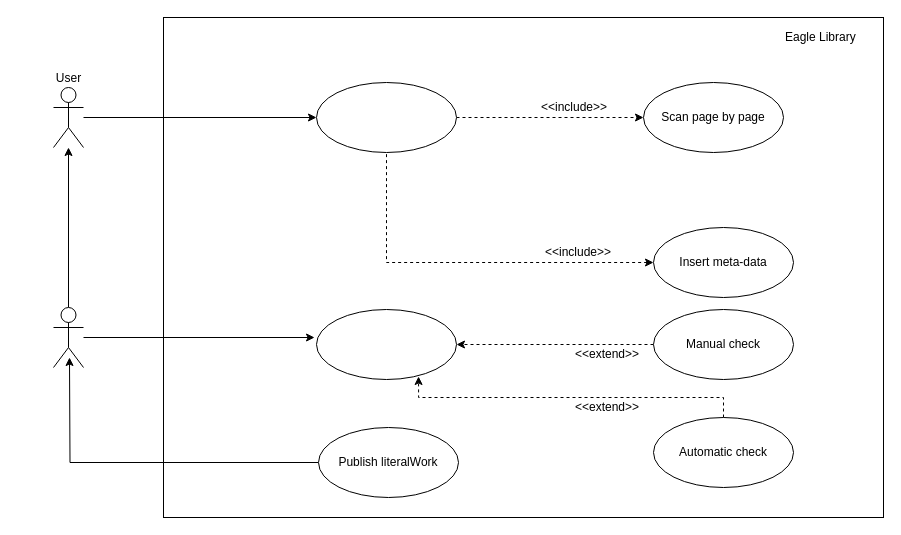
This 901x535 diagram has some shape labels left out. The centre of each missing label's shape, as x and y in pixels:
Admin: the point at 68,337
Upload literalWork: the point at 386,117
Validate literalWork: the point at 386,344
